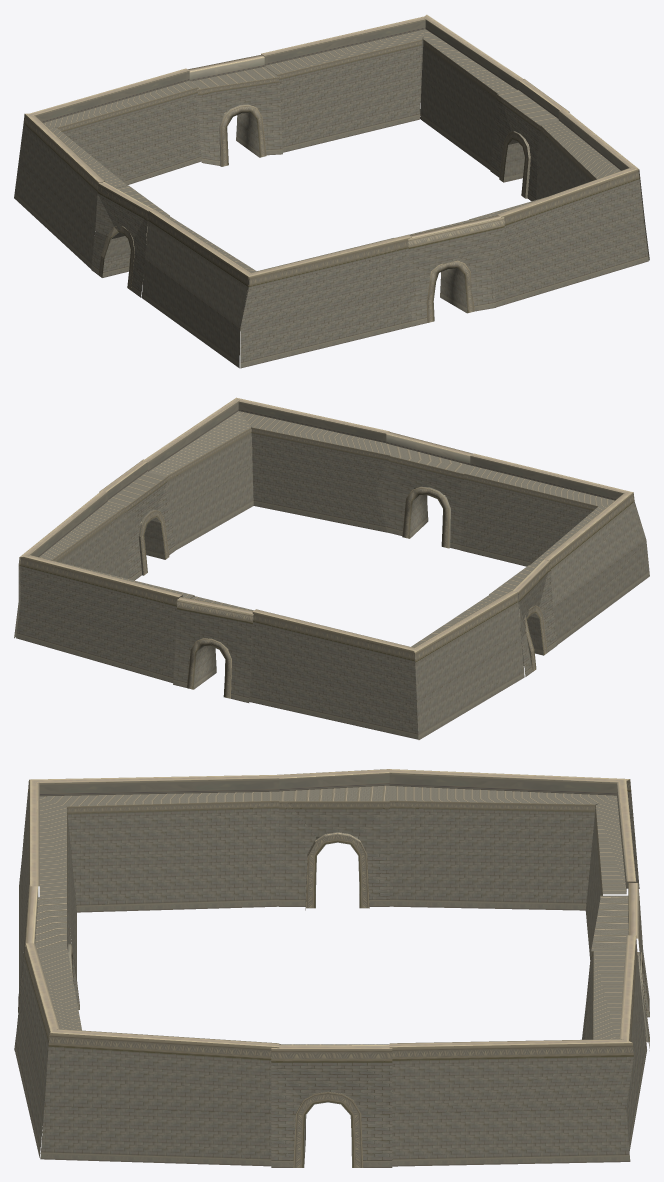
File: BG_weiqiang_01.FBX
3 renders of one model, top to bottom at view 1: azimuth 30°, elevation 25°; view 2: azimuth 150°, elevation 25°; view 3: azimuth 270°, elevation 25°, orthographic. The views are drawn at different scales.
Visible parts, largest first — view 1: chach_jz006_1553; view 2: chach_jz006_1553; view 3: chach_jz006_1553.
Part boxes in pixels (x1=…): chach_jz006_1553: x1=14, y1=14, x2=649, y2=368; chach_jz006_1553: x1=14, y1=397, x2=649, y2=739; chach_jz006_1553: x1=14, y1=769, x2=649, y2=1167.
Size of the model in its own units: 0.0904 by 0.0179 by 0.0839.
